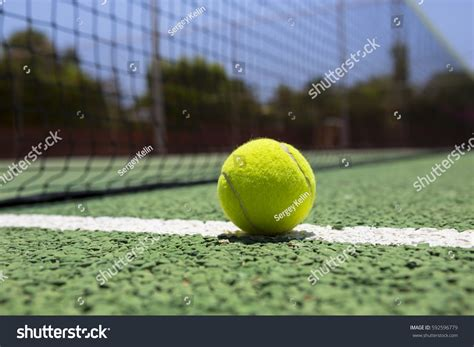tennis_ball: (217, 136, 316, 237)
